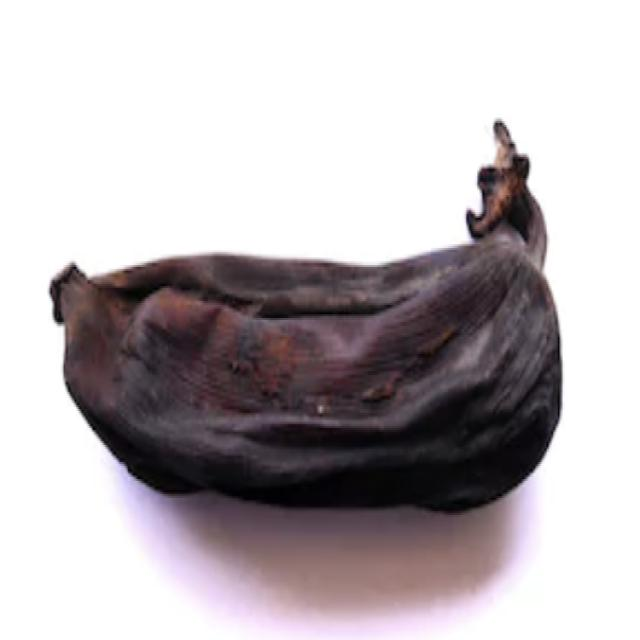rotten-banana: (48, 118, 564, 513)
